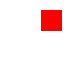square: (41, 10, 61, 30)
